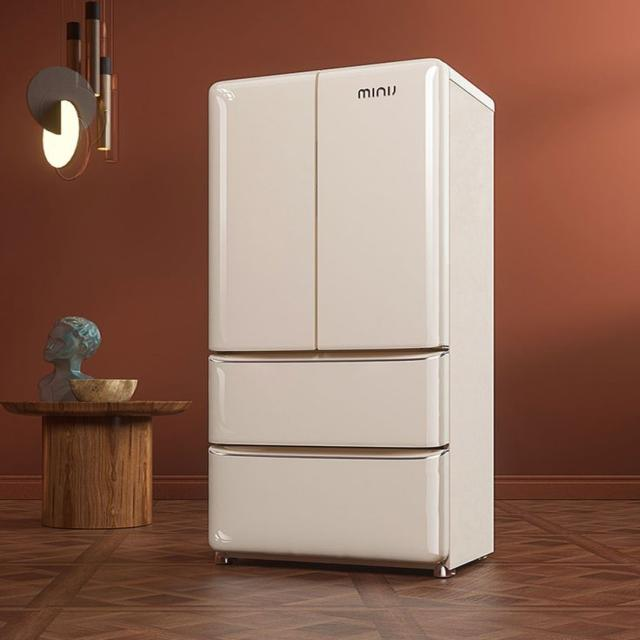obstacle: (205, 57, 496, 578)
